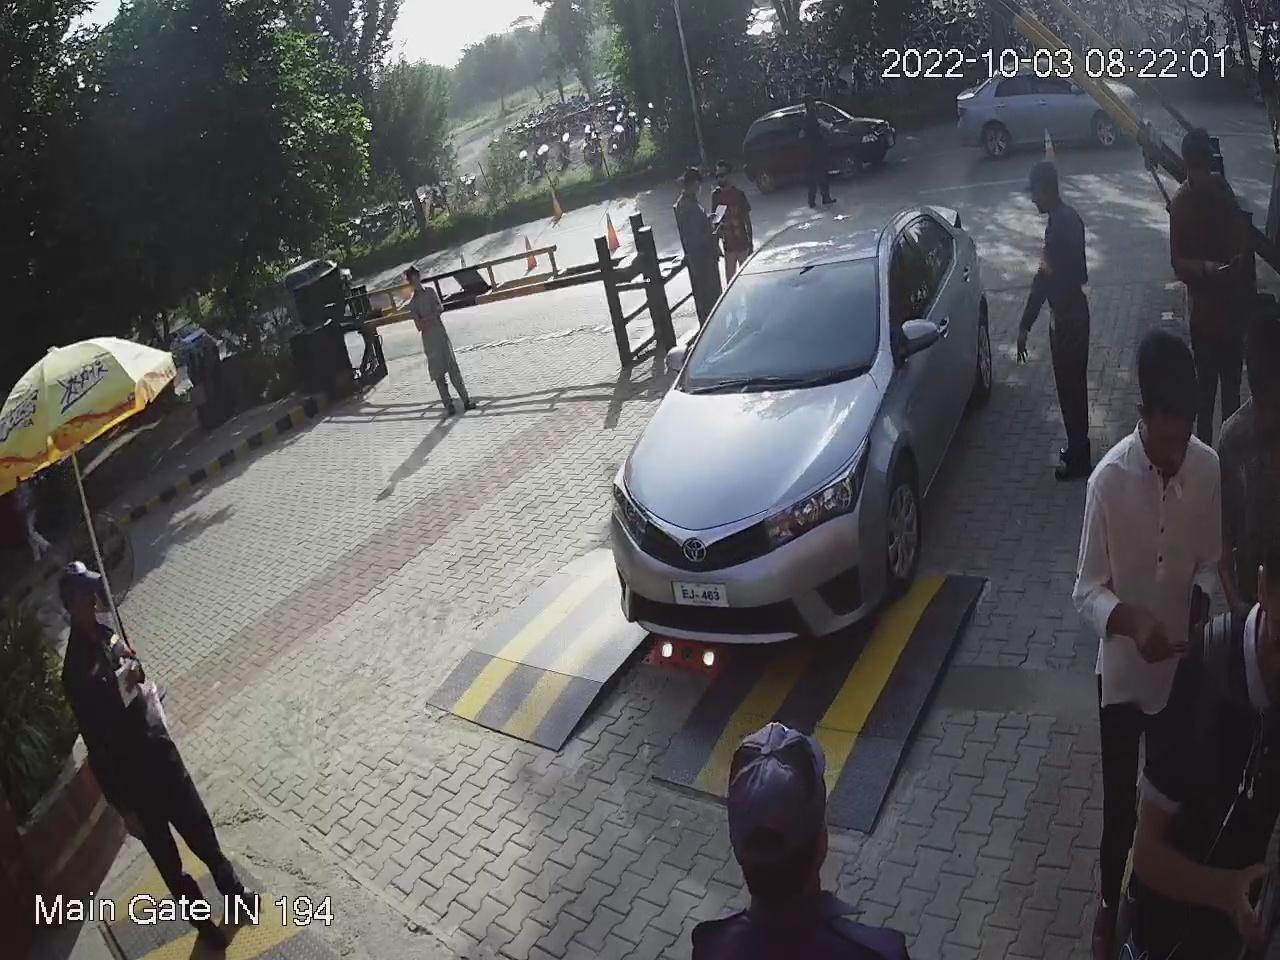windshield: (673, 240, 883, 392)
